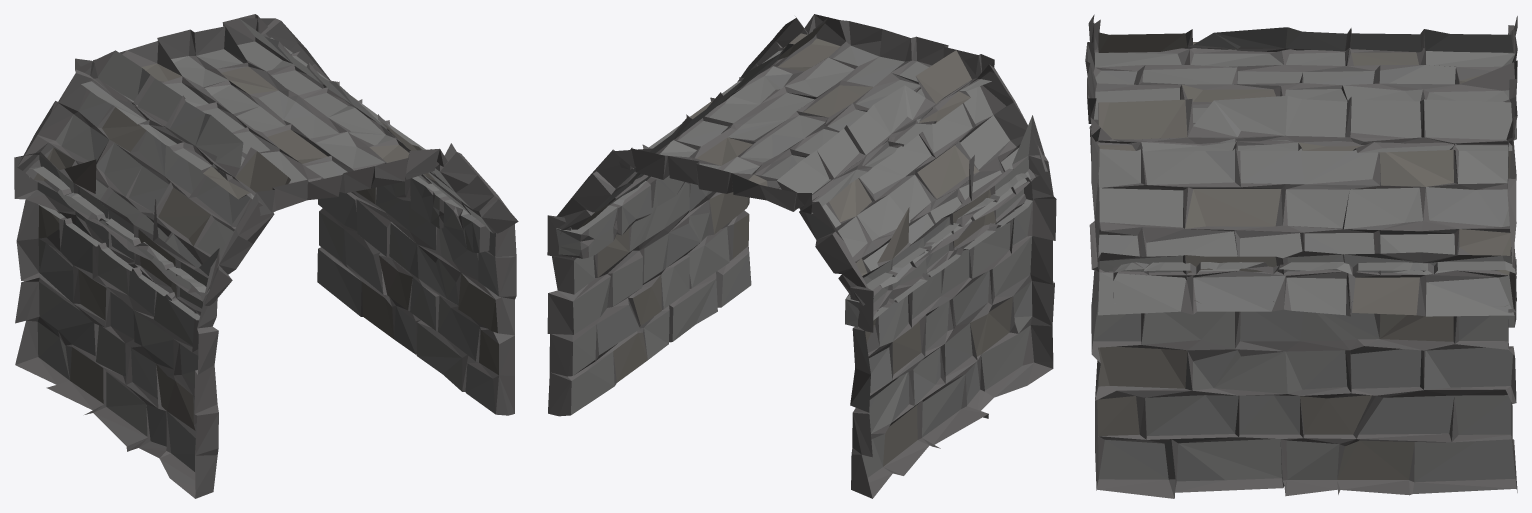
Rendered from SM_Env_Wall_Tunnel_01.FBX.
The picture shows the model from 3 angles, left to right: view 1: azimuth 30°, elevation 25°; view 2: azimuth 150°, elevation 25°; view 3: azimuth 270°, elevation 25°; orthographic projection. The views are drawn at different scales.
Parts seen in each view (by area): view 1: SM_Env_Wall_Tunnel_01; view 2: SM_Env_Wall_Tunnel_01; view 3: SM_Env_Wall_Tunnel_01.
Boxes of the visible parts, x1=… form: SM_Env_Wall_Tunnel_01: x1=14, y1=14, x2=518, y2=498; SM_Env_Wall_Tunnel_01: x1=547, y1=14, x2=1056, y2=498; SM_Env_Wall_Tunnel_01: x1=1085, y1=14, x2=1517, y2=498.
Size of what is drawn, in the model's own units: 530 by 520 by 467.
